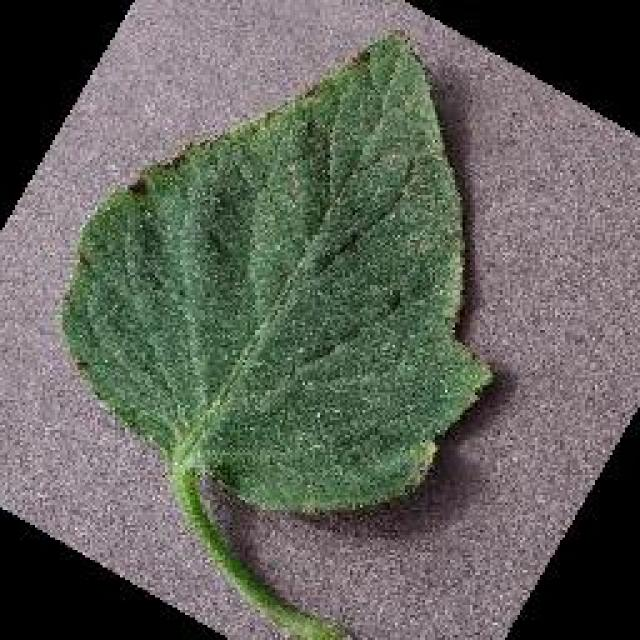Tomato___Target_Spot: (62, 32, 490, 638)
